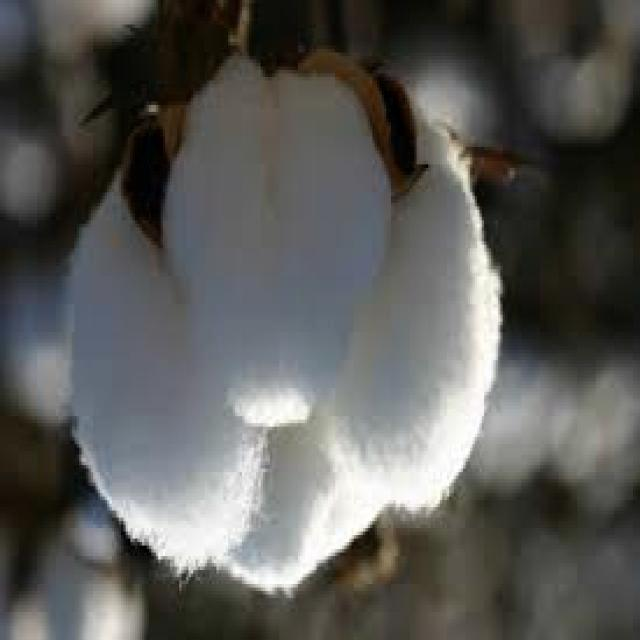Matured Cotton Boll: (53, 57, 490, 590)
